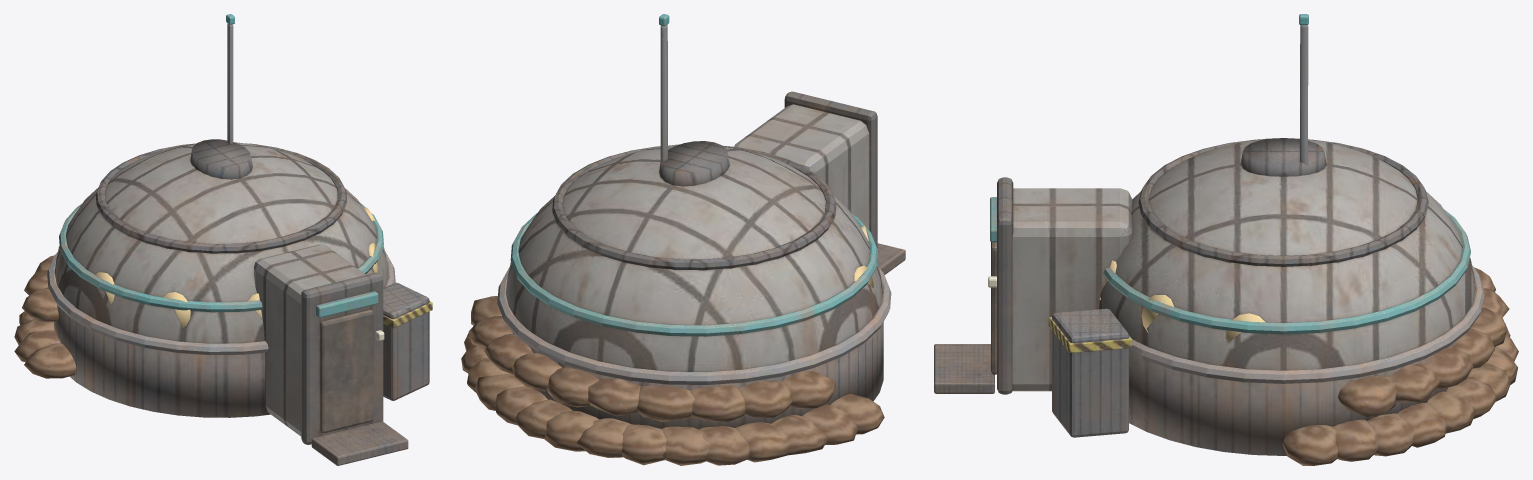
The model's file is house_1.glb.
3 views of the same model, side by side, from view 1: azimuth 30°, elevation 25°; view 2: azimuth 150°, elevation 25°; view 3: azimuth 270°, elevation 25° (orthographic). The views are drawn at different scales.
Visible parts, largest first — view 1: house_1; view 2: house_1; view 3: house_1.
Part boxes in pixels (<box>): house_1: <box>14,14,432,465</box>; house_1: <box>461,14,905,465</box>; house_1: <box>934,14,1518,465</box>.
Size of the model in its own units: 2.34 by 2.02 by 2.88.
Materials: 1 (1 with a texture image).
